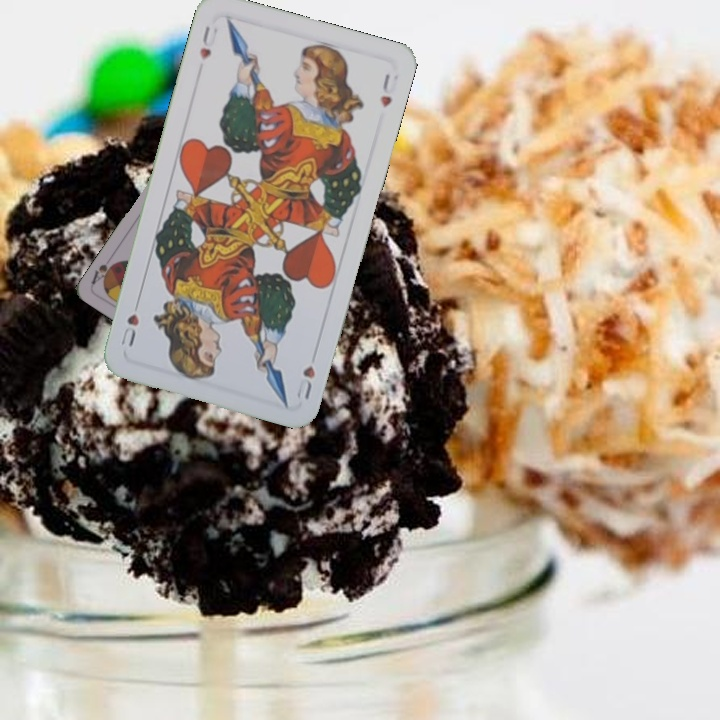HU: (292, 361, 318, 402), (195, 22, 220, 63)
